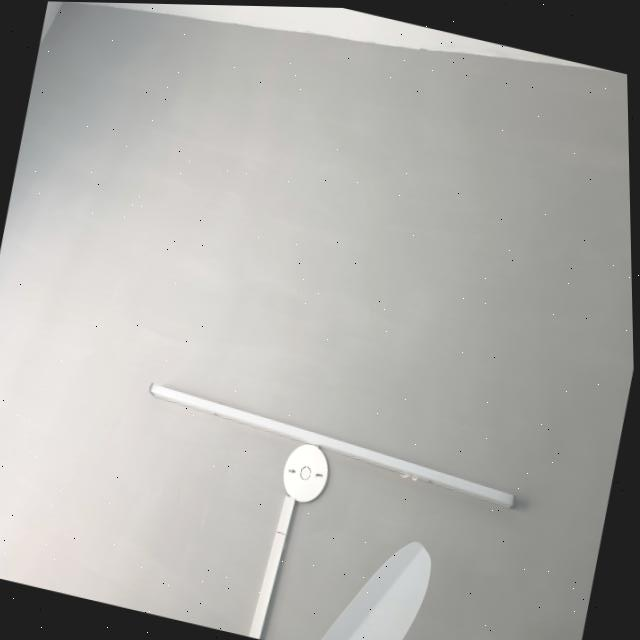fluorescent tube: (126, 350, 544, 528)
